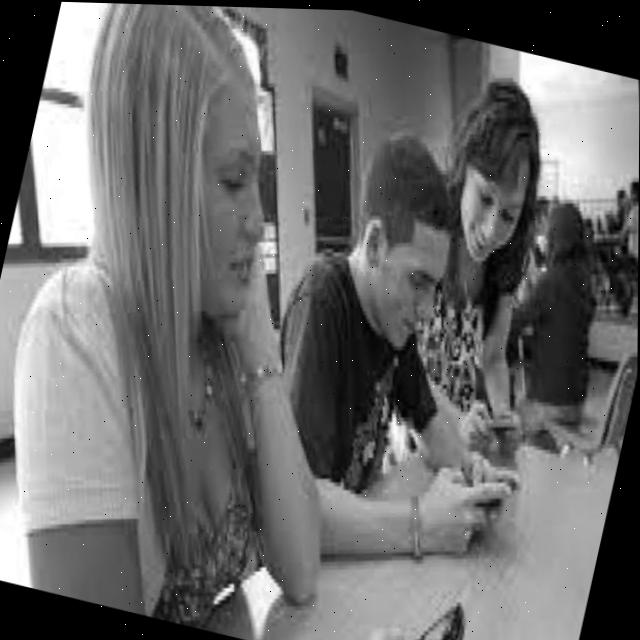phone: (399, 581, 481, 640), (467, 459, 526, 514), (483, 400, 523, 435)
